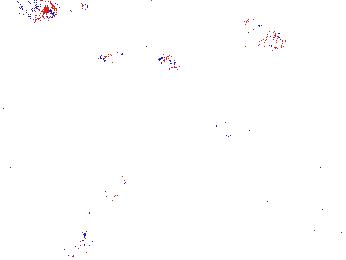X-ray fish: (223, 20, 289, 53)
glassfish: (78, 175, 130, 247)
red belly glassfish: (97, 43, 152, 66), (156, 53, 200, 73), (24, 3, 58, 21), (63, 1, 90, 15)
redtail glassfish: (211, 121, 293, 149)
